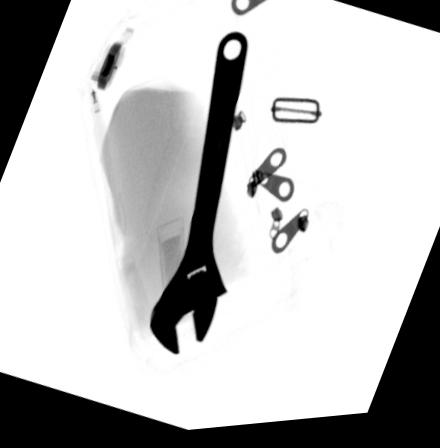Wrench: (146, 35, 249, 360)
